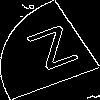Z: (25, 25, 88, 80)
